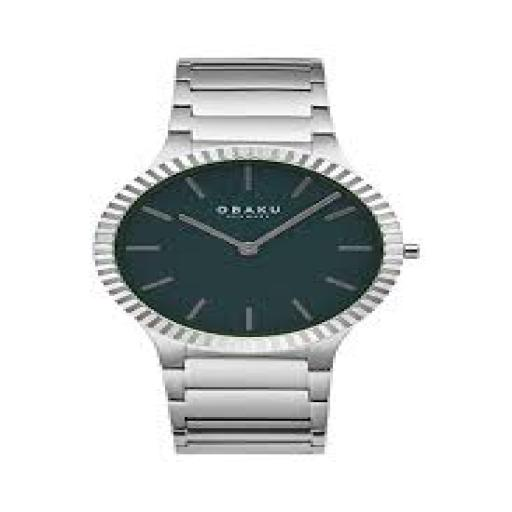KolSaati: (50, 30, 462, 471)
